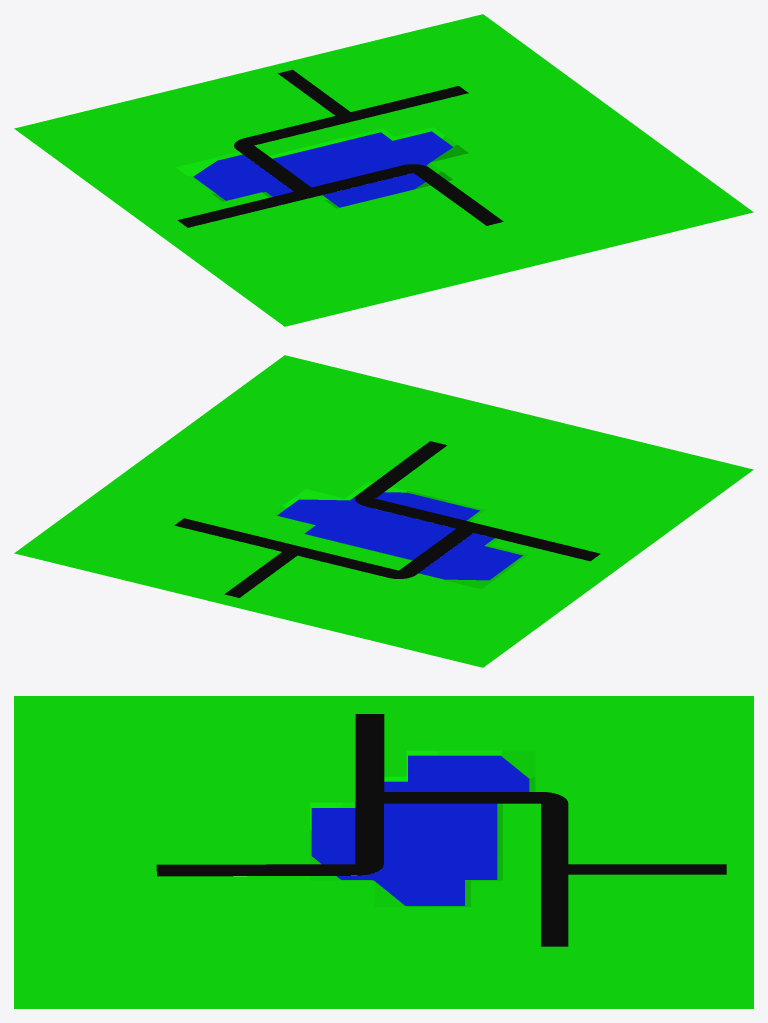
The model's file is mapa.fbx.
3 renders of one model, top to bottom at view 1: azimuth 30°, elevation 25°; view 2: azimuth 150°, elevation 25°; view 3: azimuth 270°, elevation 25°, orthographic. The views are drawn at different scales.
Parts seen in each view (by area): view 1: Plano.002, Plano.003, Plano.001; view 2: Plano.002, Plano.003, Plano.001; view 3: Plano.002, Plano.003, Plano.001.
Boxes of the visible parts, left/top/right/bottom form: Plano.002: left=14, top=14, right=753, bottom=326; Plano.003: left=193, top=131, right=452, bottom=207; Plano.001: left=177, top=69, right=503, bottom=227; Plano.002: left=14, top=355, right=753, bottom=667; Plano.003: left=277, top=492, right=522, bottom=580; Plano.001: left=174, top=441, right=600, bottom=597; Plano.002: left=14, top=696, right=753, bottom=1008; Plano.003: left=311, top=755, right=529, bottom=905; Plano.001: left=156, top=714, right=726, bottom=946.
Size of the model in its own units: 12087 by 325 by 12087.
